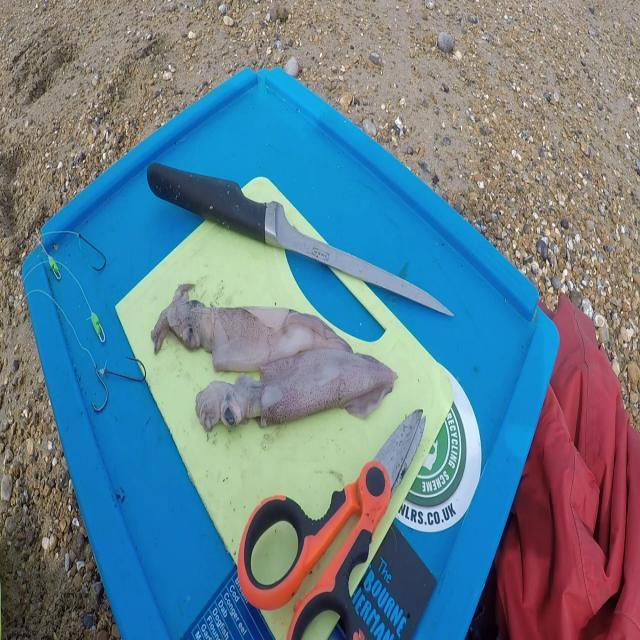squid: (152, 278, 354, 370), (196, 347, 397, 430)
